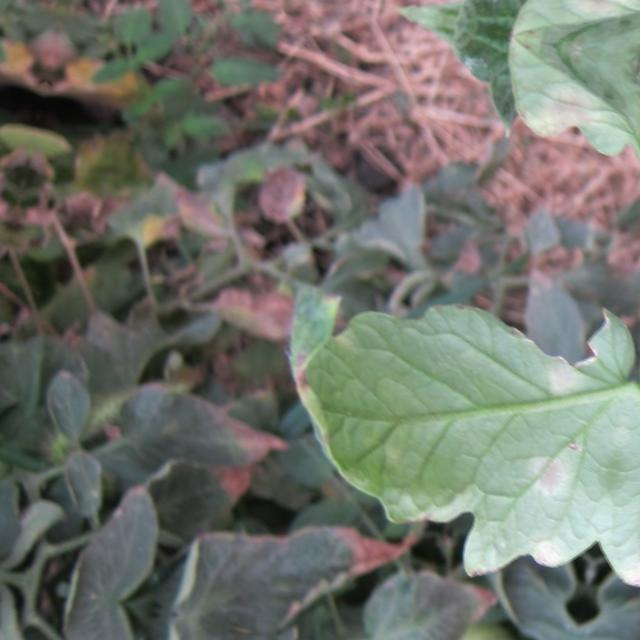Tomato mold leaf: (187, 244, 640, 604), (256, 0, 640, 172)
